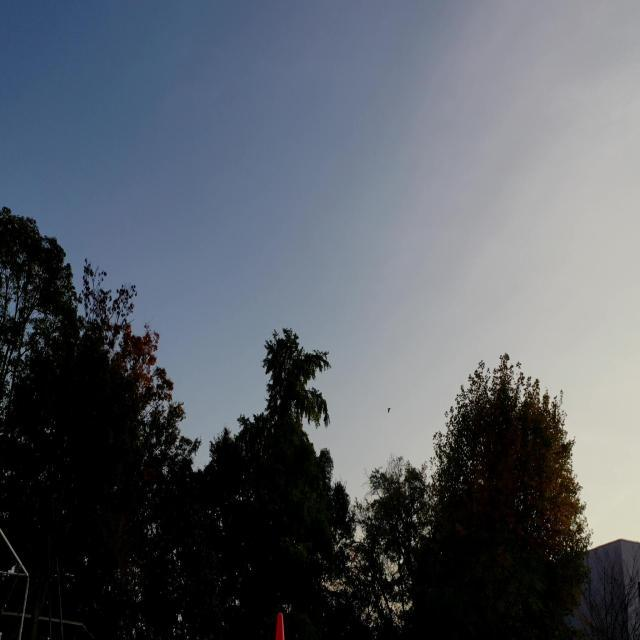Birds: (382, 400, 396, 418)
